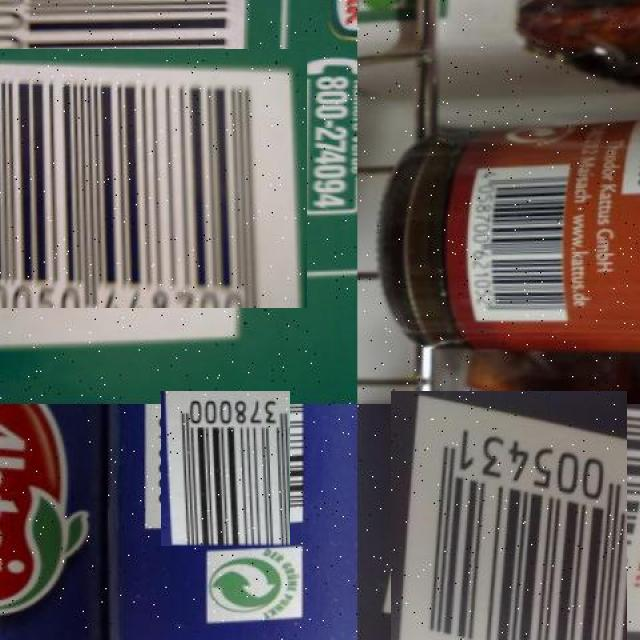Barcode: (0, 25, 283, 332), (384, 398, 633, 640), (155, 397, 297, 540), (465, 165, 571, 327)
